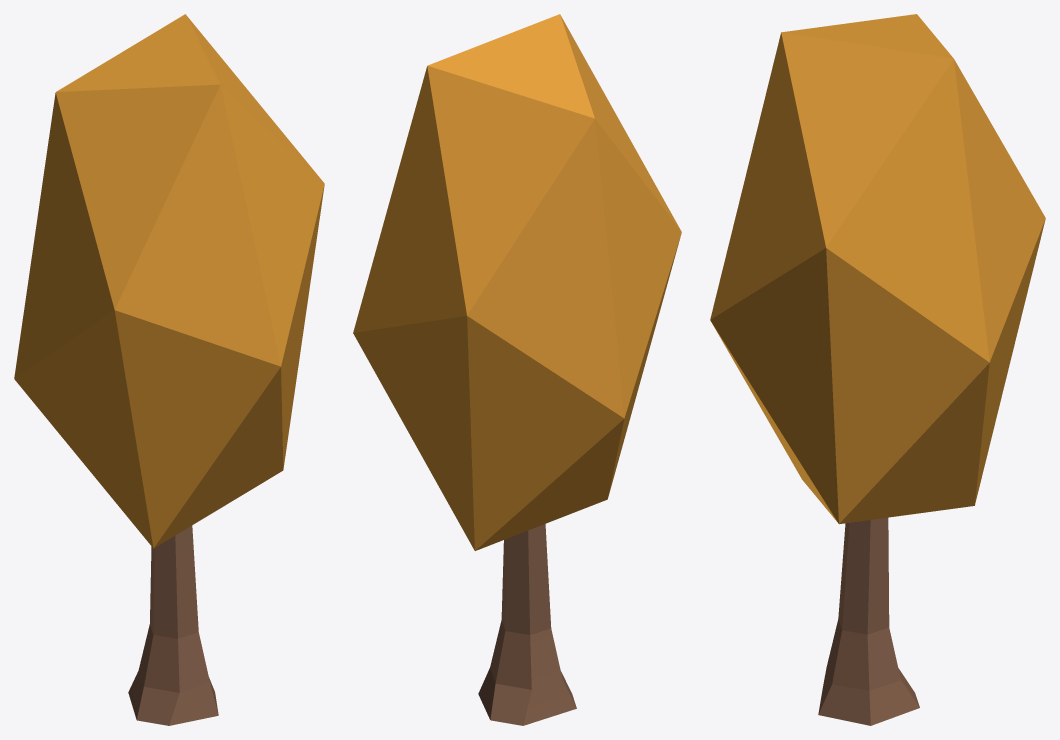
File: deciduous_tree_15.fbx
3 renders of one model, left to right at view 1: azimuth 30°, elevation 25°; view 2: azimuth 150°, elevation 25°; view 3: azimuth 270°, elevation 25°, orthographic. The views are drawn at different scales.
Visible parts, largest first — view 1: deciduous_tree_15; view 2: deciduous_tree_15; view 3: deciduous_tree_15.
Part boxes in pixels (<box>): deciduous_tree_15: <box>14,14,324,725</box>; deciduous_tree_15: <box>353,14,681,725</box>; deciduous_tree_15: <box>710,14,1045,725</box>.
Bounding box in the file's own units: 258 × 613 × 276.
